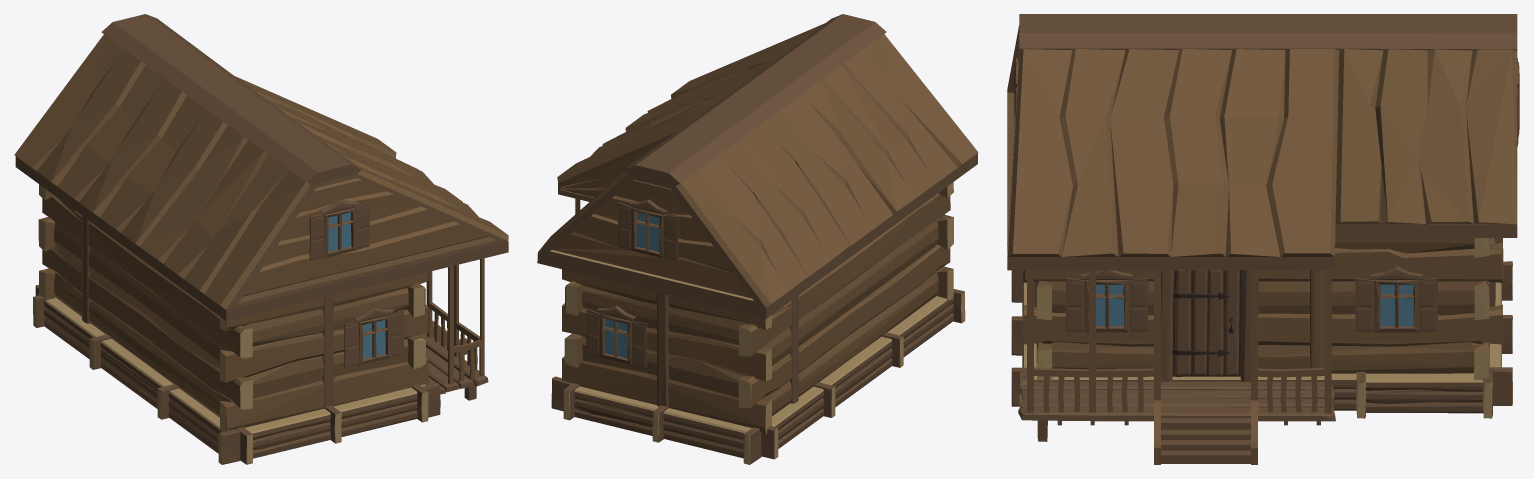
Rendered from WoodHouse2.glb.
3 renders of one model, left to right at view 1: azimuth 30°, elevation 25°; view 2: azimuth 150°, elevation 25°; view 3: azimuth 270°, elevation 25°, orthographic. The views are drawn at different scales.
Visible parts, largest first — view 1: House.2938, House.1820, House.1835, House.1790, House.150, House.2748, House.1846, House.2804, House.2075, House.935, House.775, House.183 (+4 smaller); view 2: House.2938, House.1820, House.1812, House.1790, House.150, House.1846, House.2749, House.2804, House.1251, House.1091, House.183, House.2784 (+5 smaller); view 3: House.2804, House.2939, House.1795, House.2075, House.150, House.1790, House.617, House.1846, House.1568, House.1411, House.1678, House.1812 (+3 smaller).
Boxes of the visible parts, x1,y1,x2,y2 form: House.2938: (14, 34, 310, 309); House.1820: (42, 195, 252, 417); House.1835: (219, 272, 428, 432); House.1790: (33, 285, 440, 464); House.150: (101, 14, 361, 185); House.2748: (243, 178, 487, 296); House.1846: (15, 156, 508, 321); House.2804: (235, 76, 508, 240); House.2075: (419, 258, 488, 400); House.935: (309, 199, 369, 260); House.775: (344, 307, 404, 368); House.183: (82, 216, 333, 408); House.2938: (676, 34, 978, 307); House.1820: (738, 193, 950, 415); House.1812: (562, 269, 771, 433); House.1790: (551, 289, 965, 464); House.150: (624, 14, 886, 185); House.1846: (537, 133, 977, 318); House.2749: (552, 179, 752, 298); House.2804: (557, 23, 824, 182); House.1251: (586, 306, 646, 367); House.1091: (618, 199, 678, 261); House.183: (657, 292, 798, 406); House.2784: (560, 141, 662, 197); House.2804: (1008, 49, 1339, 256); House.2939: (1335, 49, 1517, 224); House.1795: (1023, 237, 1503, 373); House.2075: (1018, 270, 1335, 464); House.150: (1019, 14, 1517, 50); House.1790: (1011, 261, 1512, 418); House.617: (1161, 270, 1258, 381); House.1846: (1007, 25, 1517, 270); House.1568: (1355, 266, 1437, 332); House.1411: (1065, 270, 1148, 332); House.1678: (1172, 270, 1241, 376); House.1812: (1474, 238, 1490, 379).
Size of the model in its own units: 3.14 by 2.67 by 3.76.
